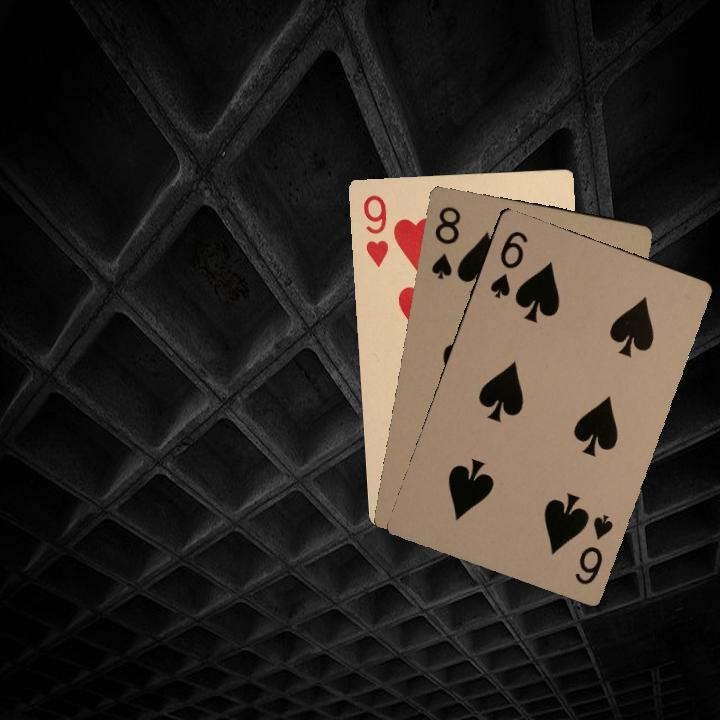6s: (570, 510, 616, 588), (486, 227, 531, 302)
8s: (427, 202, 464, 281)
9h: (359, 191, 391, 270)
